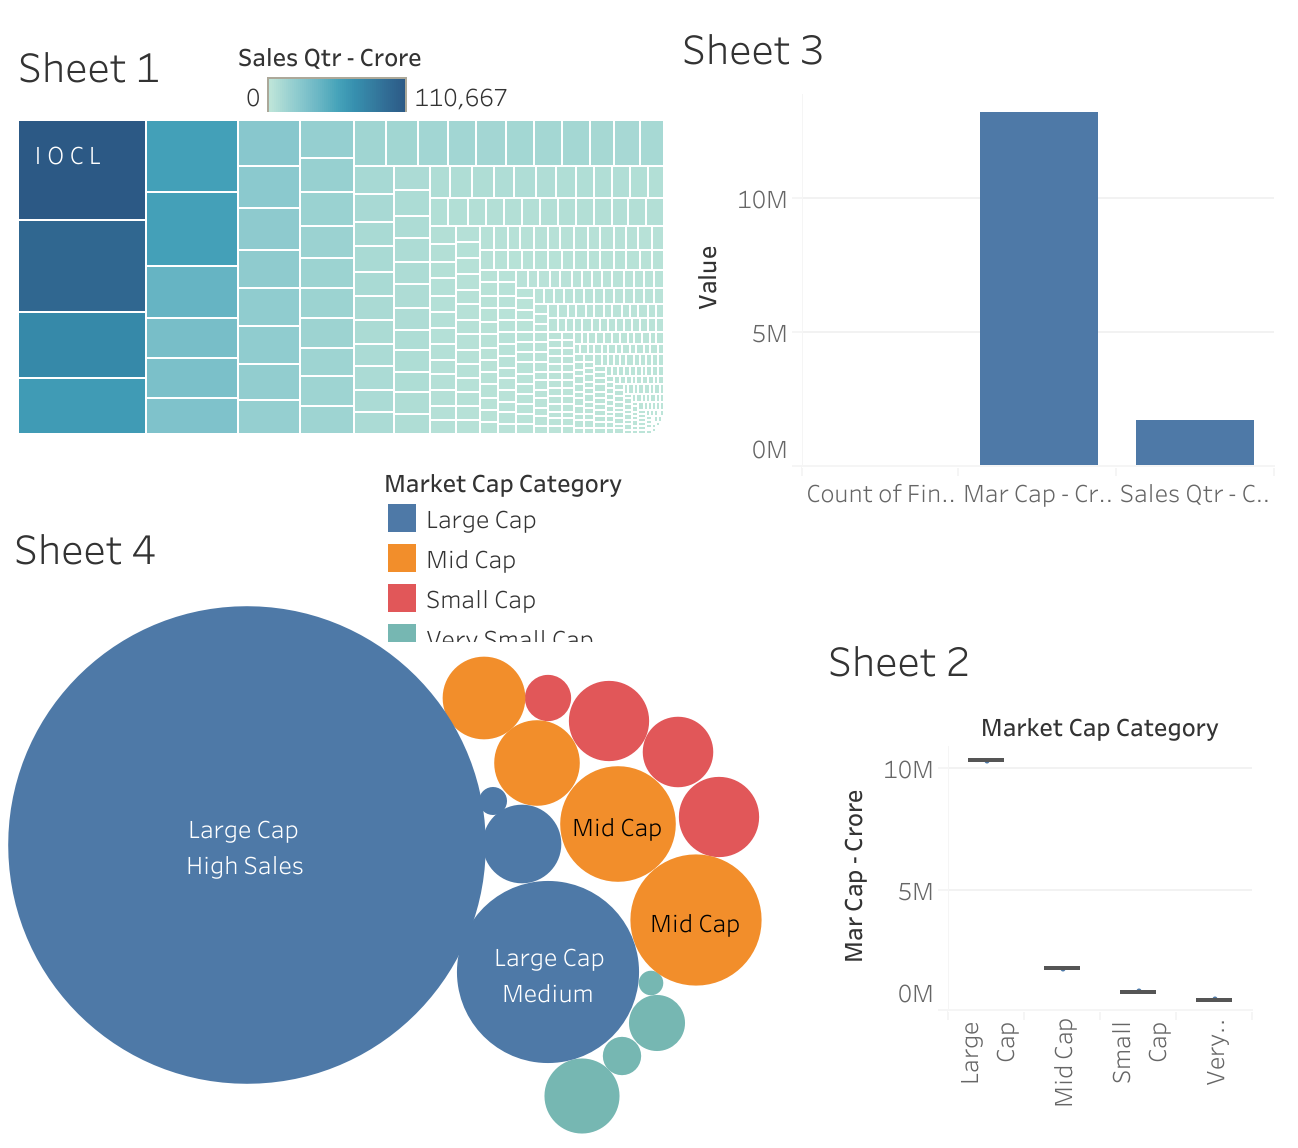

The page's visual inventory and layout, read from the dashboard file:
{"tool":"tableau","page":{"name":"Dashboard 1","canvas":[650,860],"ordinal":0},"visuals":[{"type":"worksheet","title":"Sheet 3","mark":"Automatic","box":[337,6.7,300,375.4]},{"type":"worksheet","title":"Sheet 1","mark":"Automatic","box":[5,20,331,311.5]},{"type":"legend","title":"Sheet 1","param":"[federated.1hrpy4d19eyltn0zv7d8n167uc9w].[sum:Sales Qtr - Crore:qk]","box":[119,22.6,140,78.5]},{"type":"legend","title":"Sheet 4","param":"[federated.1hrpy4d19eyltn0zv7d8n167uc9w].[none:Market_Cap_Category:nk]","box":[189,340.6,140,141.9]},{"type":"worksheet","title":"Sheet 4","mark":"Circle","box":[3,379.4,378,477.9]},{"type":"worksheet","title":"Sheet 2","mark":"Circle","rows":["Mar Cap - Crore"],"cols":["Market_Cap_Category"],"box":[410,463.3,216,368.8]}]}

Visuals, with their boxes on the page's 650x860 design canvas (x1, y1, x2, y2). These are canvas units, not pixel positions in the 1298x1148 screenshot, which may show the page scaled, cropped or inside an application window:
"Sheet 3" worksheet: 337, 7, 637, 382
"Sheet 1" worksheet: 5, 20, 336, 332
"Sheet 1" legend: 119, 23, 259, 101
"Sheet 4" legend: 189, 341, 329, 482
"Sheet 4" worksheet (Circle marks): 3, 379, 381, 857
"Sheet 2" worksheet (Circle marks): 410, 463, 626, 832
